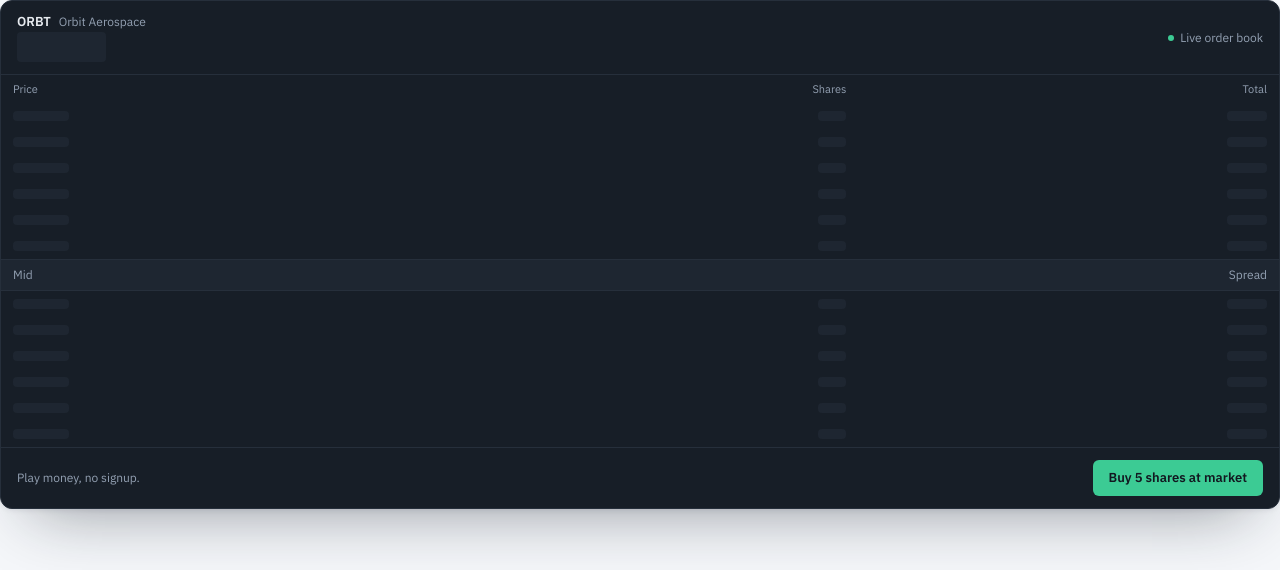
Test case: HeroDemo order button › does not report an unknown order when no order was sent (the guest session failed)
Click the button "Buy 5 shares at market": (1178, 478) [1093,460,1263,496]
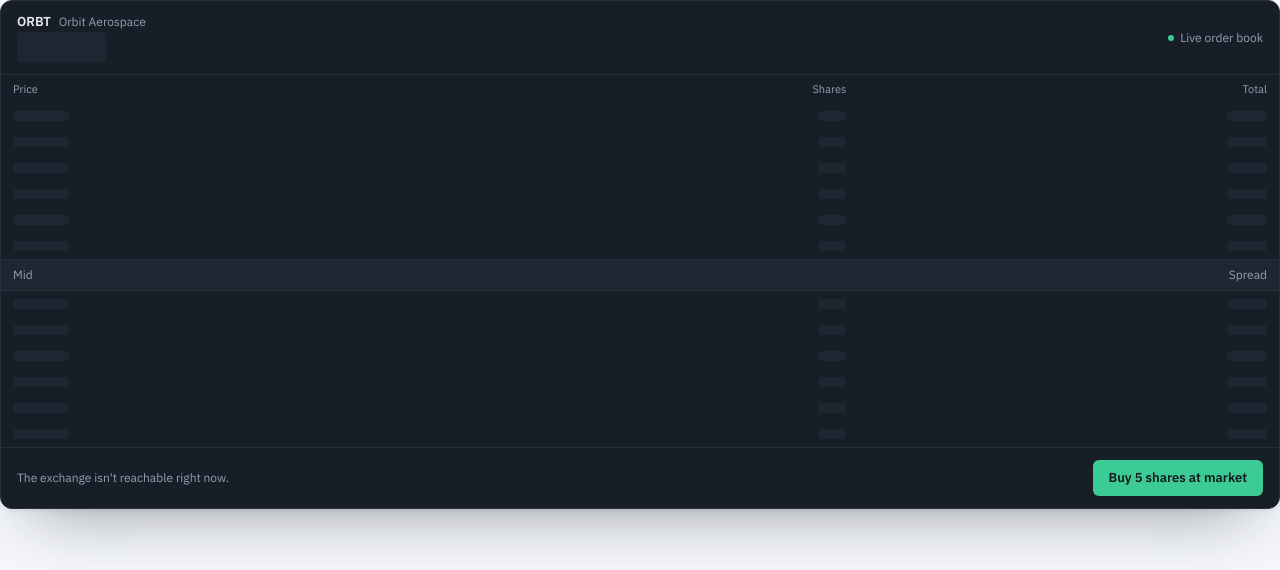
Expected: the text "The exchange isn't reachable right now." is shown, [17,470,229,486]
